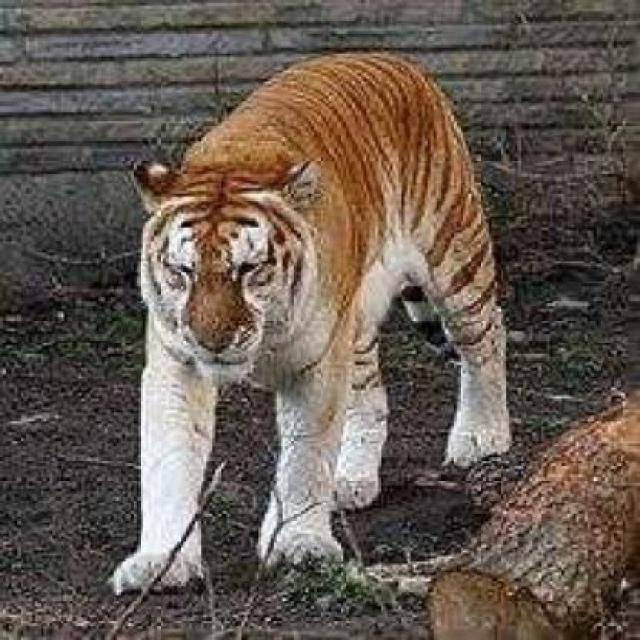Tiger: (106, 36, 512, 581)
